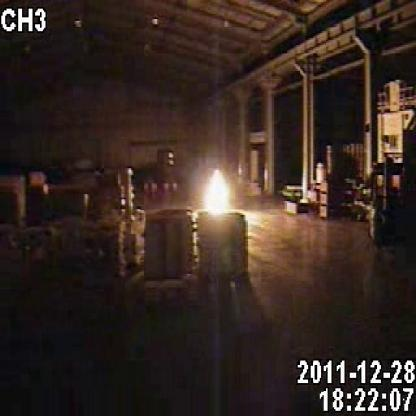fire: (188, 160, 250, 242)
